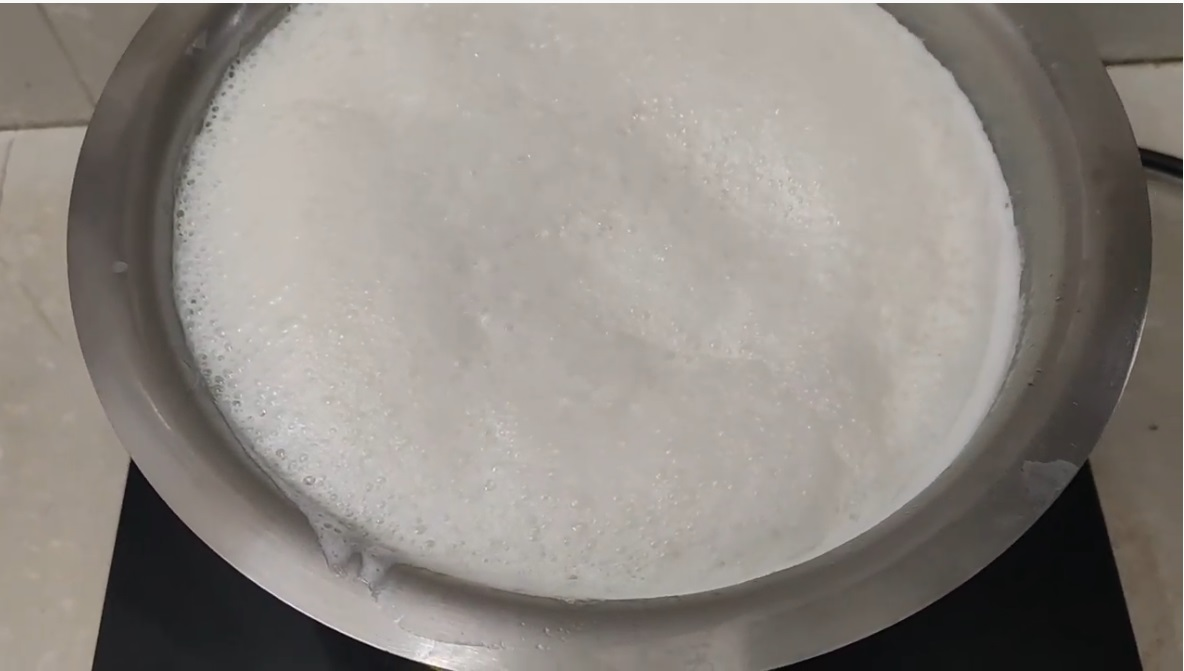Steaming: (147, 5, 1048, 621)
